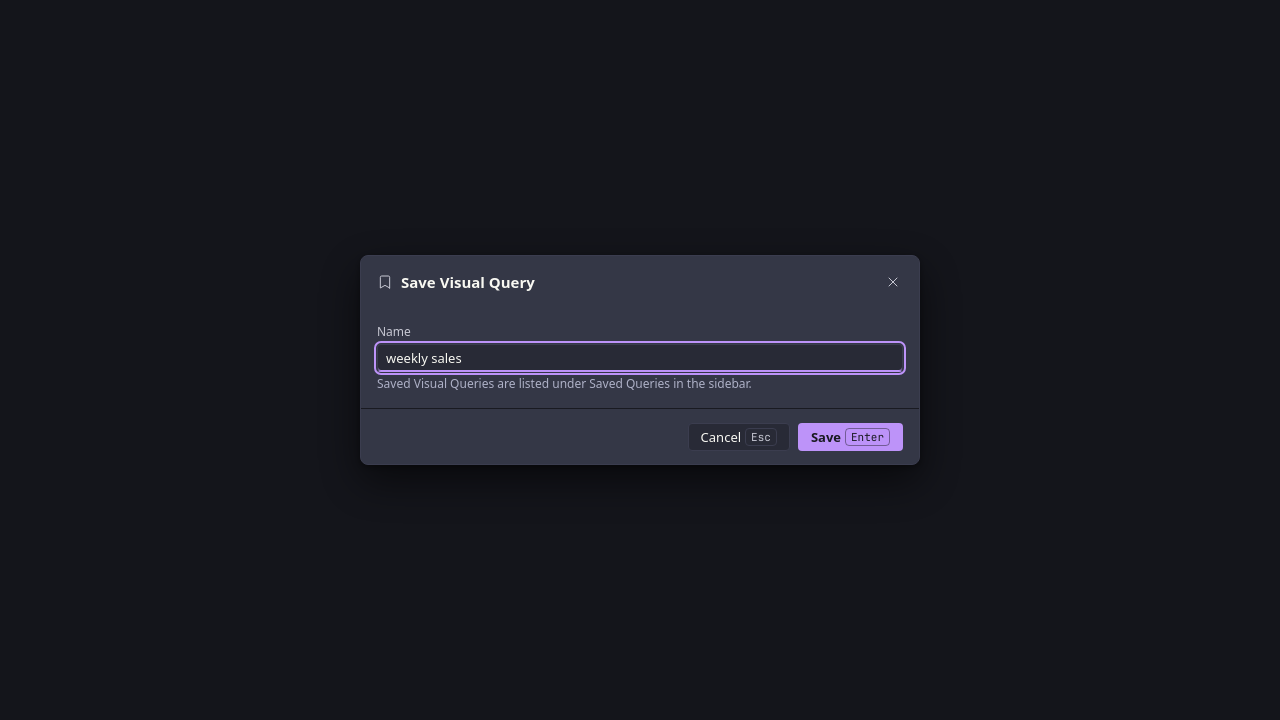
Scenario: save_dialog_says_a_sql_querys_name_is_taken_by_a_sql_query
Click the button "Save Enter".
click(850, 436)  # box [798, 422, 903, 450]
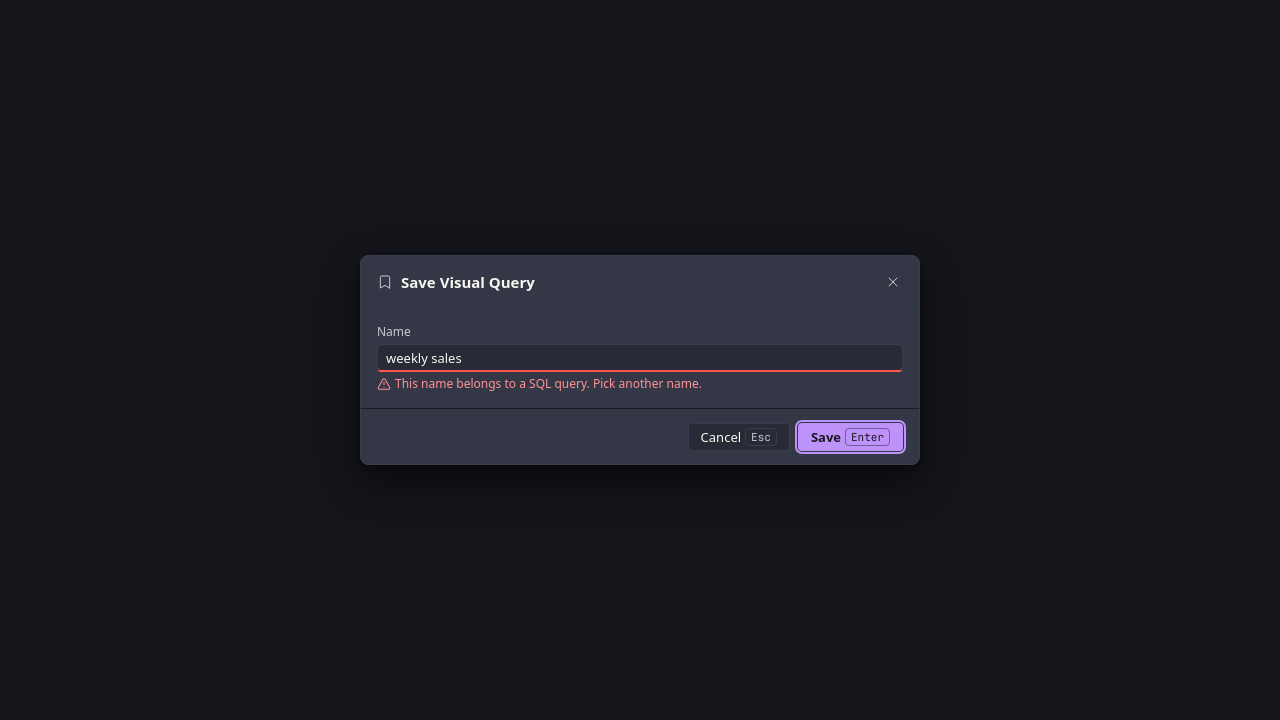
Check: the message reads "This name belongs to a SQL query. Pick another name.", box [395, 375, 702, 392]
